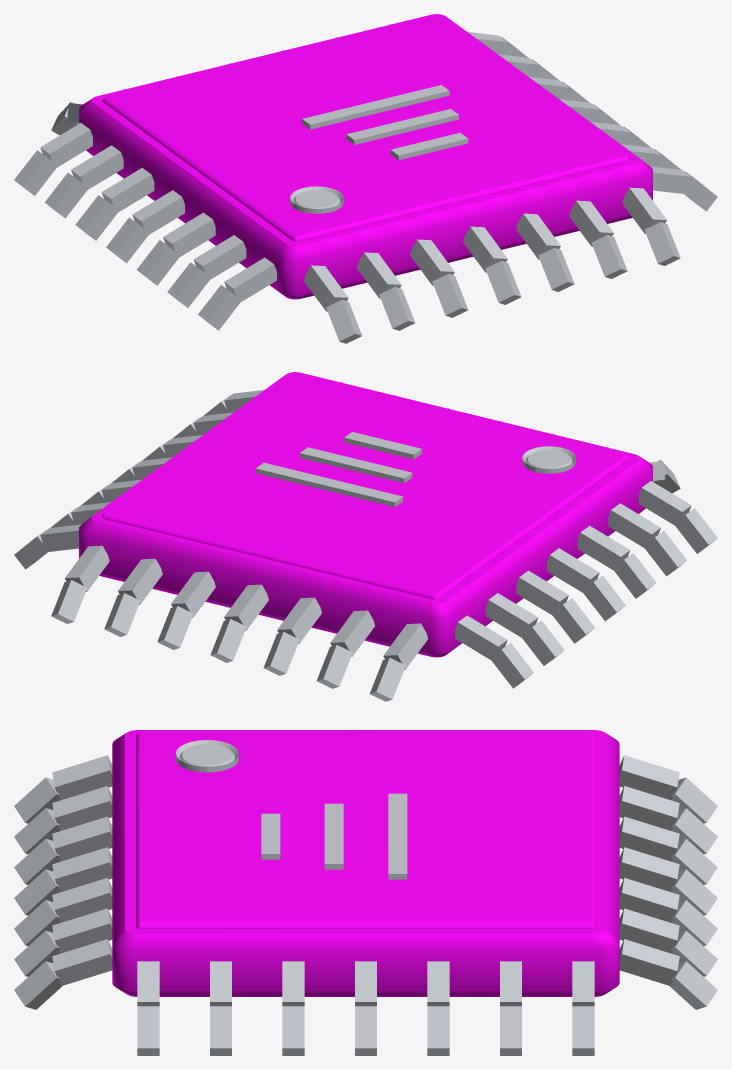
File: objet_microcontroleur.glb
3 views of the same model, one above another, from view 1: azimuth 30°, elevation 25°; view 2: azimuth 150°, elevation 25°; view 3: azimuth 270°, elevation 25° (orthographic). The views are drawn at different scales.
Parts seen in each view (by area): view 1: puce_teinte.002, puce_composant_clair.002; view 2: puce_teinte.002, puce_composant_clair.002; view 3: puce_teinte.002, puce_composant_clair.002.
Boxes of the visible parts, x1,y1,x2,y2 form: puce_teinte.002: [79, 14, 652, 299]; puce_composant_clair.002: [14, 24, 717, 343]; puce_teinte.002: [79, 372, 652, 657]; puce_composant_clair.002: [14, 382, 717, 701]; puce_teinte.002: [112, 730, 619, 996]; puce_composant_clair.002: [14, 740, 717, 1055].
Bounding box in the file's own units: 0.2199 × 0.034 × 0.222.
